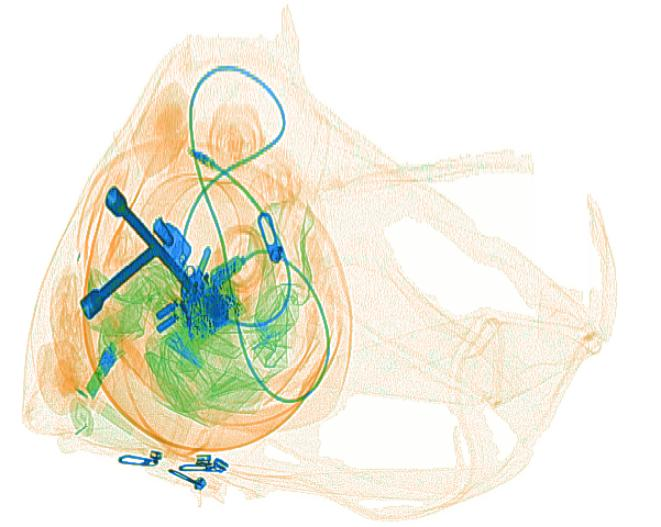USBFlashDisk: (82, 345, 120, 401)
